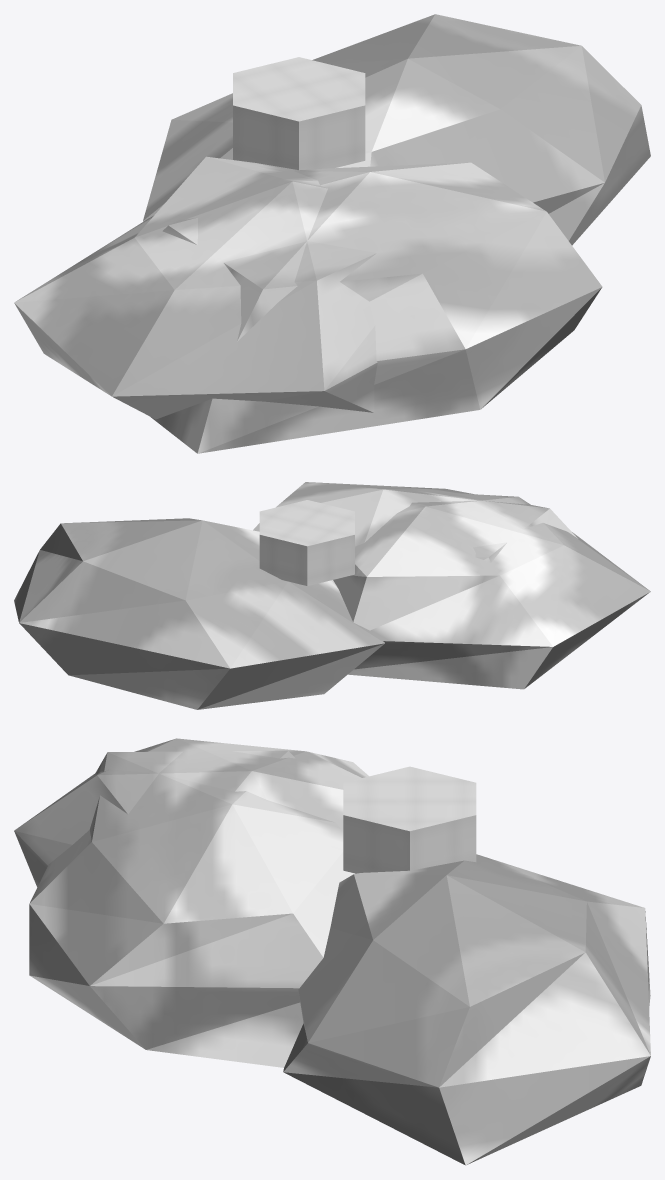
Rendered from food_leaves.obj.
The picture shows the model from 3 angles, top to bottom: view 1: azimuth 30°, elevation 25°; view 2: azimuth 150°, elevation 25°; view 3: azimuth 270°, elevation 25°; orthographic projection. The views are drawn at different scales.
Visible parts, largest first — view 1: food_leaves; view 2: food_leaves; view 3: food_leaves.
Boxes of the visible parts, x1,y1,x2,y2 form: food_leaves: [14, 14, 650, 453]; food_leaves: [14, 482, 650, 709]; food_leaves: [14, 738, 650, 1165].
Size of the model in its own units: 0.5383 by 0.13 by 0.4155.
